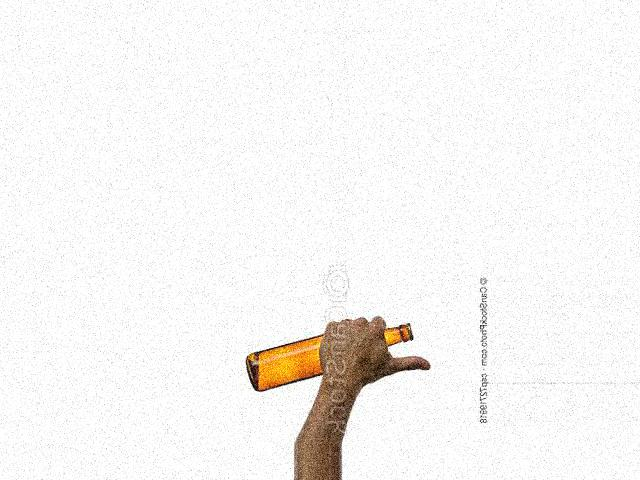beer: (246, 324, 412, 392)
